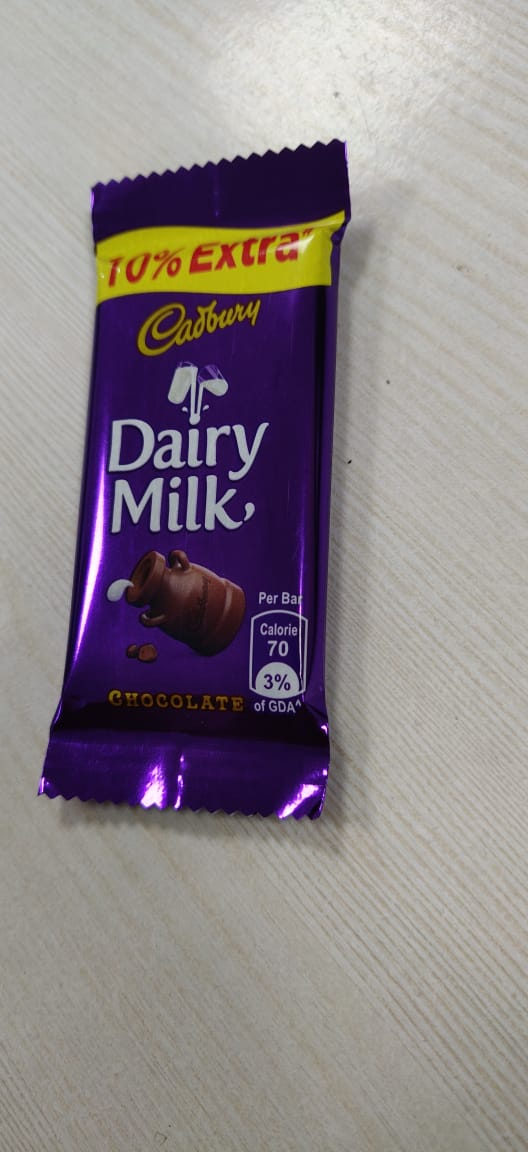dairy milk: (50, 134, 348, 841)
